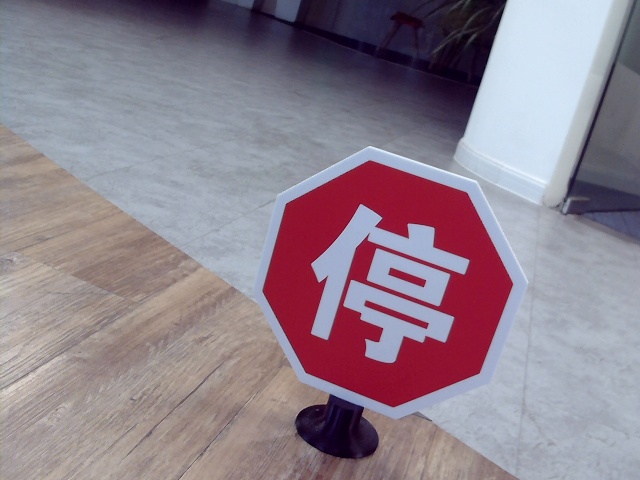stop: (315, 197, 461, 358)
